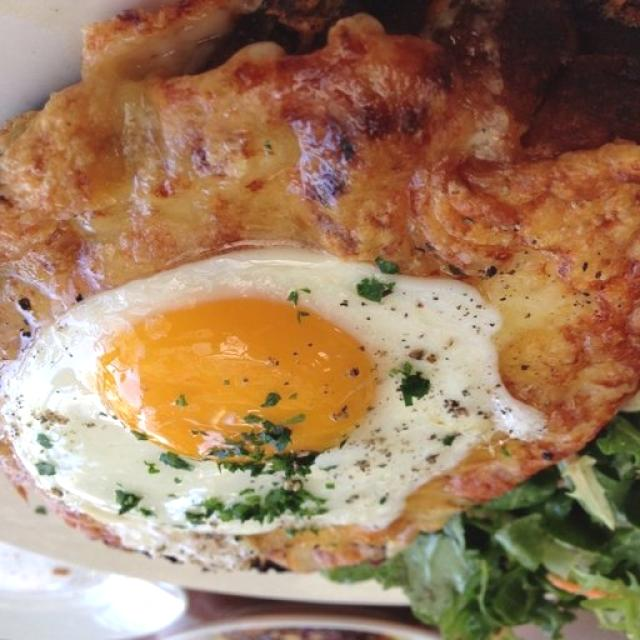telur ceplok: (0, 260, 502, 535)
